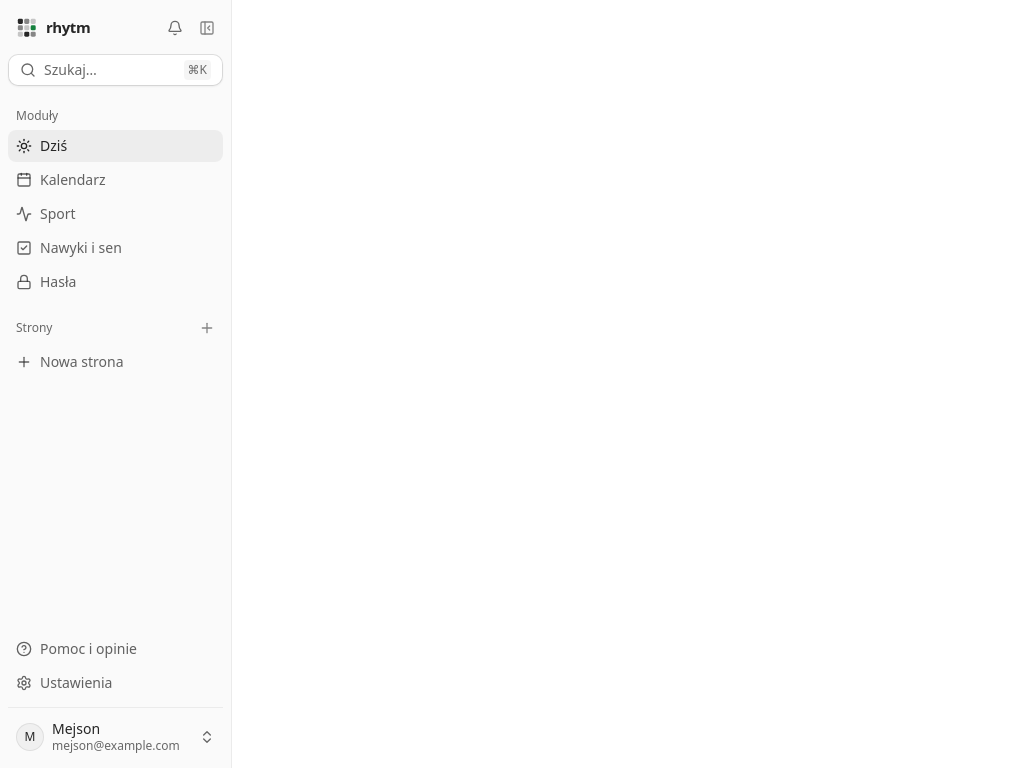
AppSidebar › klik w blok użytkownika otwiera dymek bez linku Ustawienia, Esc go zamyka
Click the button "M Mejson mejson@example.com" at x=116, y=737, box [8, 714, 223, 760]
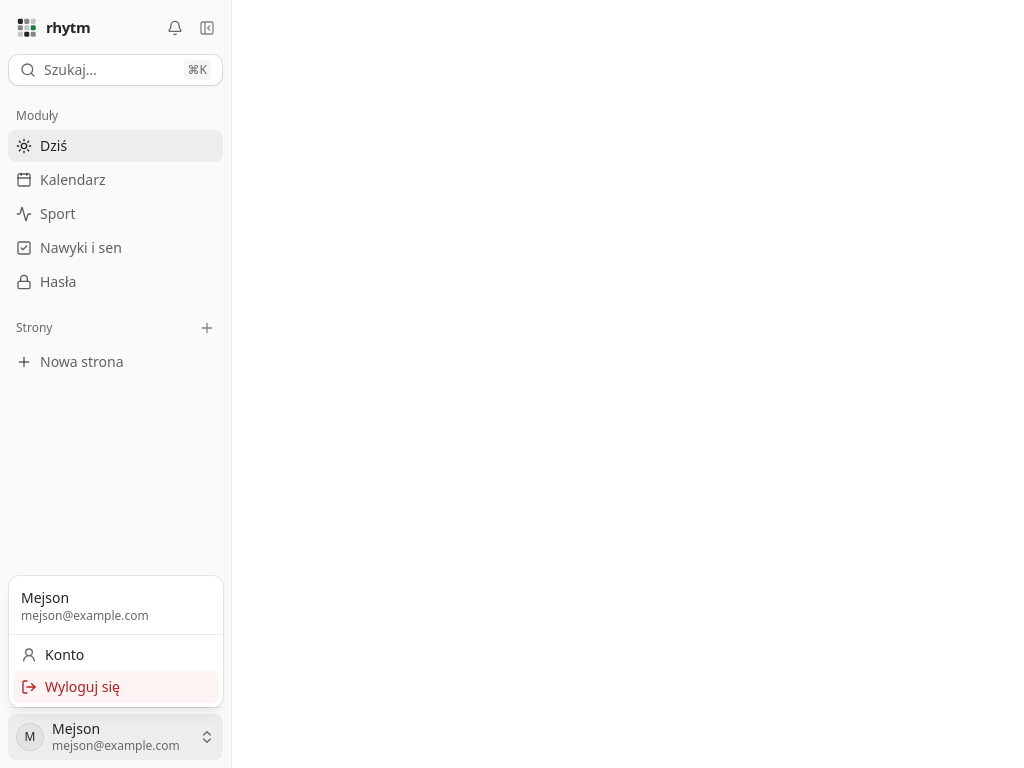
Expected: the 1st text "Mejson" is shown, [21, 588, 69, 607]
Expected: the 1st text "mejson@example.com" is shown, [21, 607, 149, 624]
Expected: the button "Wyloguj się" is shown, [13, 671, 219, 703]
Press Escape
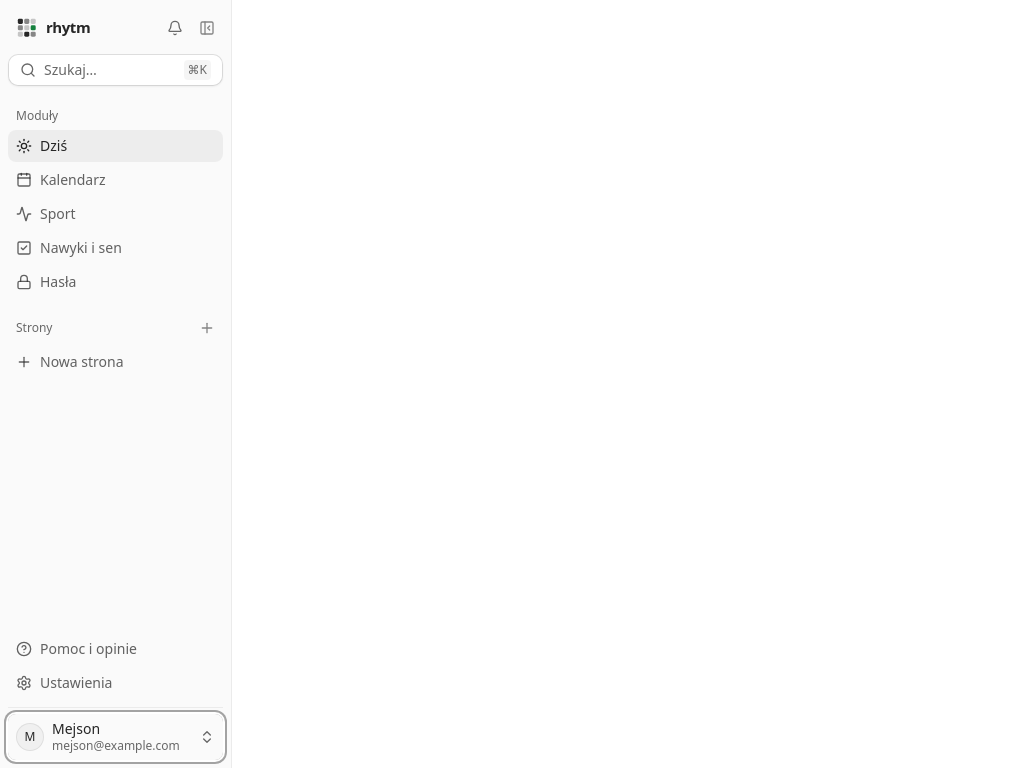
Expected: the dialog is gone
